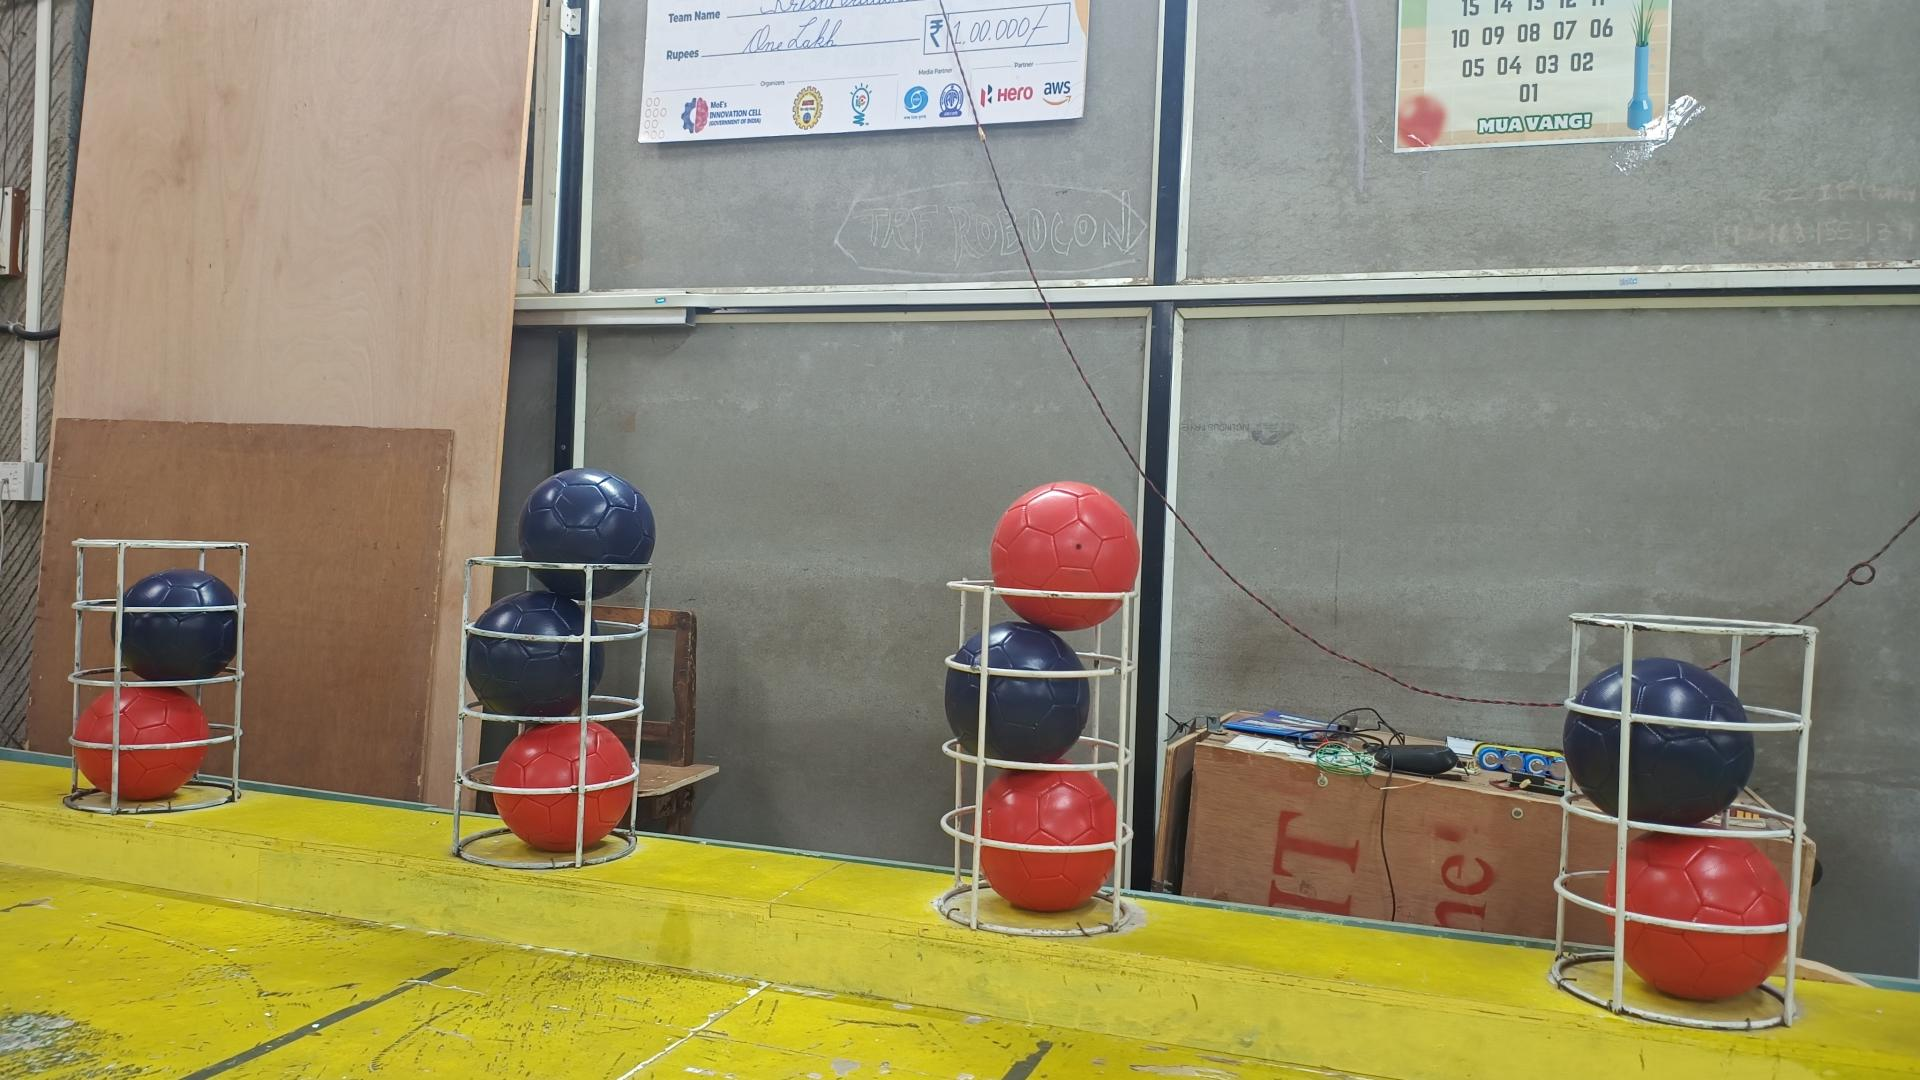dhoka: (1564, 657, 1755, 828), (945, 622, 1092, 761), (517, 468, 657, 600), (465, 588, 604, 716), (108, 570, 244, 683)
laale: (1605, 832, 1792, 1001), (990, 480, 1139, 630), (975, 769, 1121, 911), (492, 720, 634, 852), (71, 686, 210, 803)
